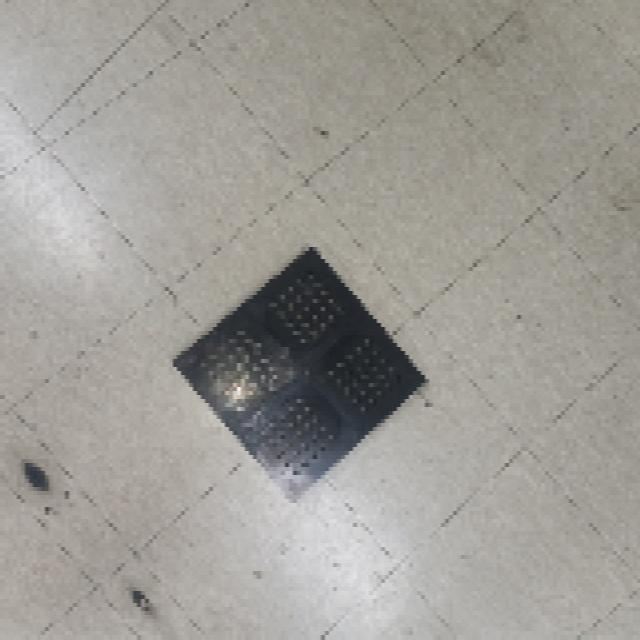pallet: (160, 236, 433, 509)
